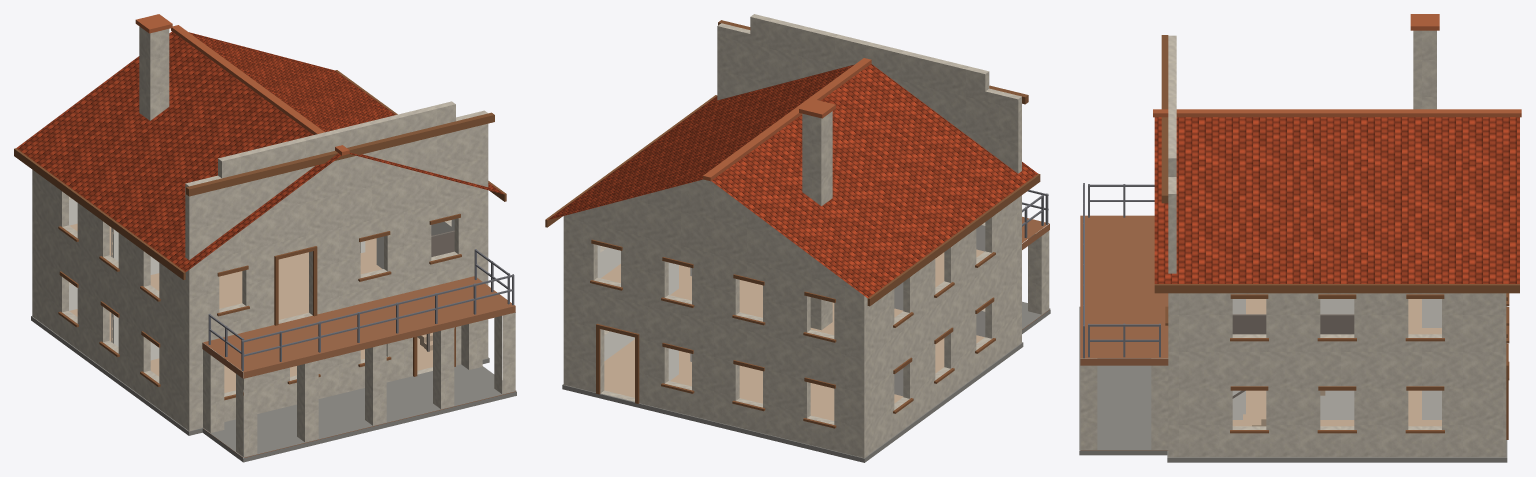
Rendered from cr-mission-house.towns-v2.lod0.glb.
3 views of the same model, side by side, from view 1: azimuth 30°, elevation 25°; view 2: azimuth 150°, elevation 25°; view 3: azimuth 270°, elevation 25° (orthographic). The views are drawn at different scales.
Parts seen in each view (by area): view 1: cr-mission-house; view 2: cr-mission-house; view 3: cr-mission-house.
Part boxes in pixels (x1,y1,x2,y2): cr-mission-house: (14,14,516,462); cr-mission-house: (545,14,1050,462); cr-mission-house: (1079,14,1521,462).
Size of the model in its own units: 11.88 by 10.77 by 13.08.
5 materials, 2 textured.
